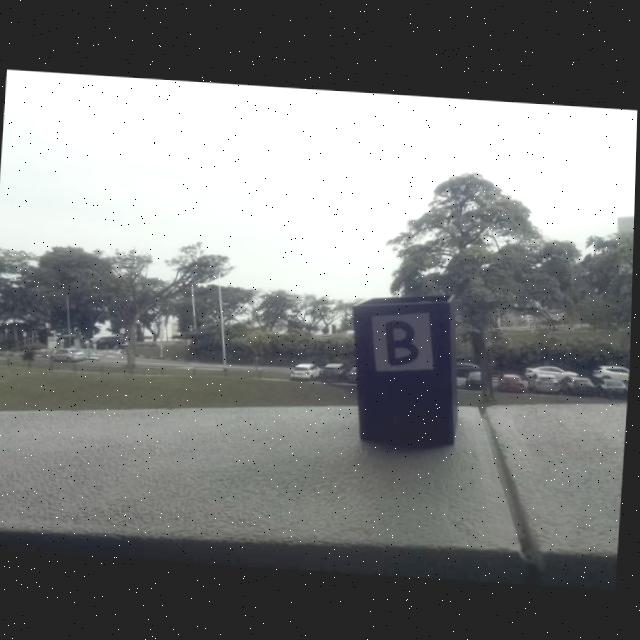B: (386, 316, 421, 363)
